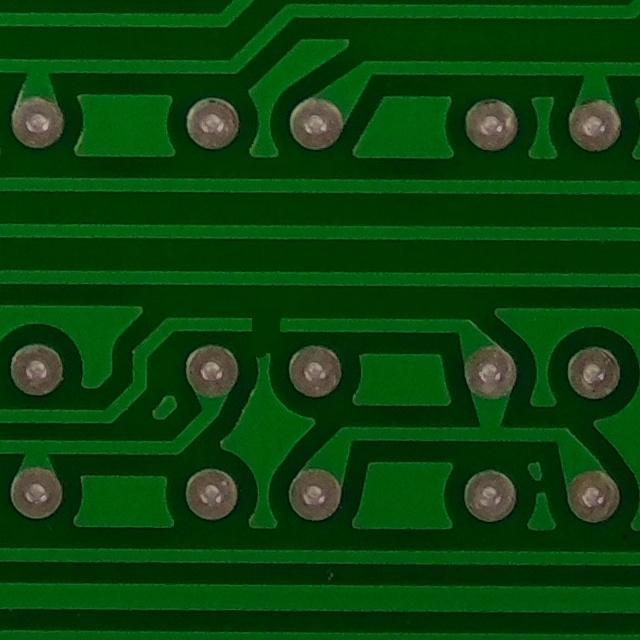open_circuit: (238, 303, 291, 343)
